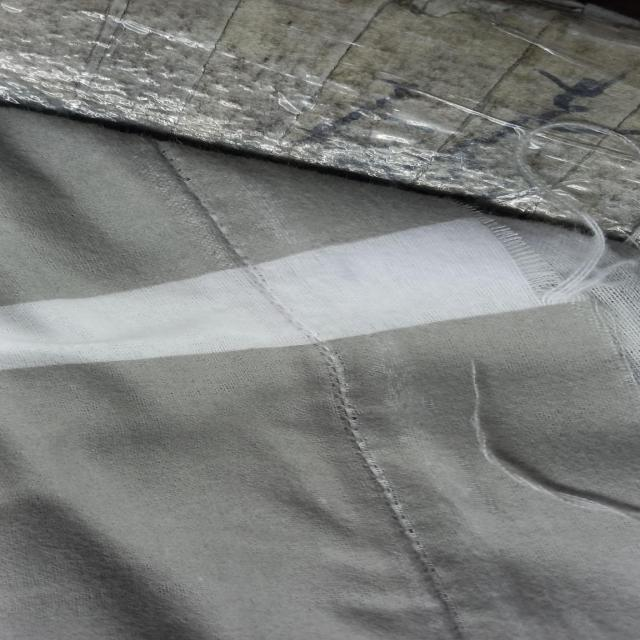gray stitch: (350, 416, 464, 631), (231, 257, 362, 408), (143, 131, 248, 256)
